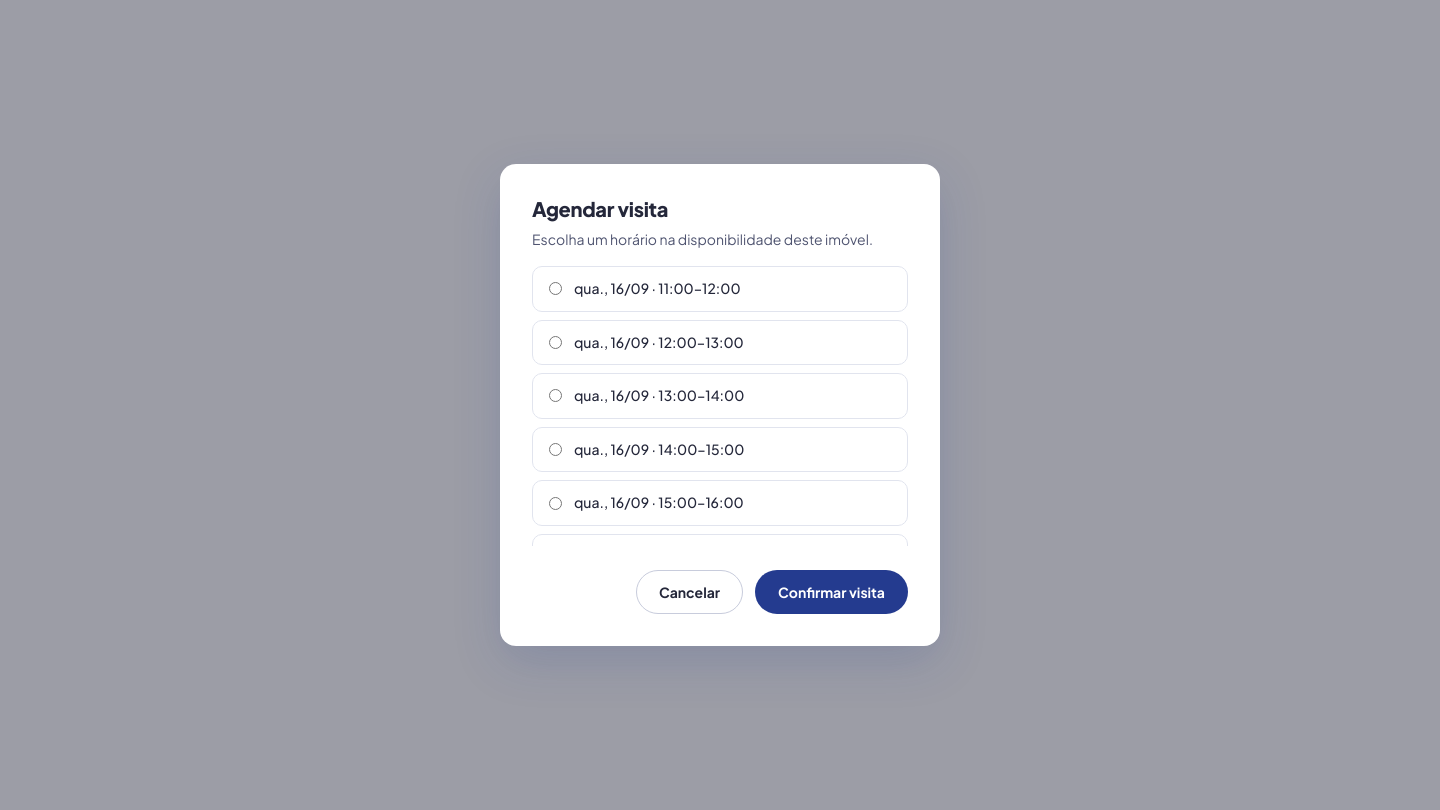
it: VisitScheduler › books an available slot for an authenticated renter
Expected: the dialog "Agendar visita" is shown, [500,164,940,646]
Click the radio button labelled "qua., 16/09 · 11:00–12:00". click: (556, 289)
box: [549,282,562,295]
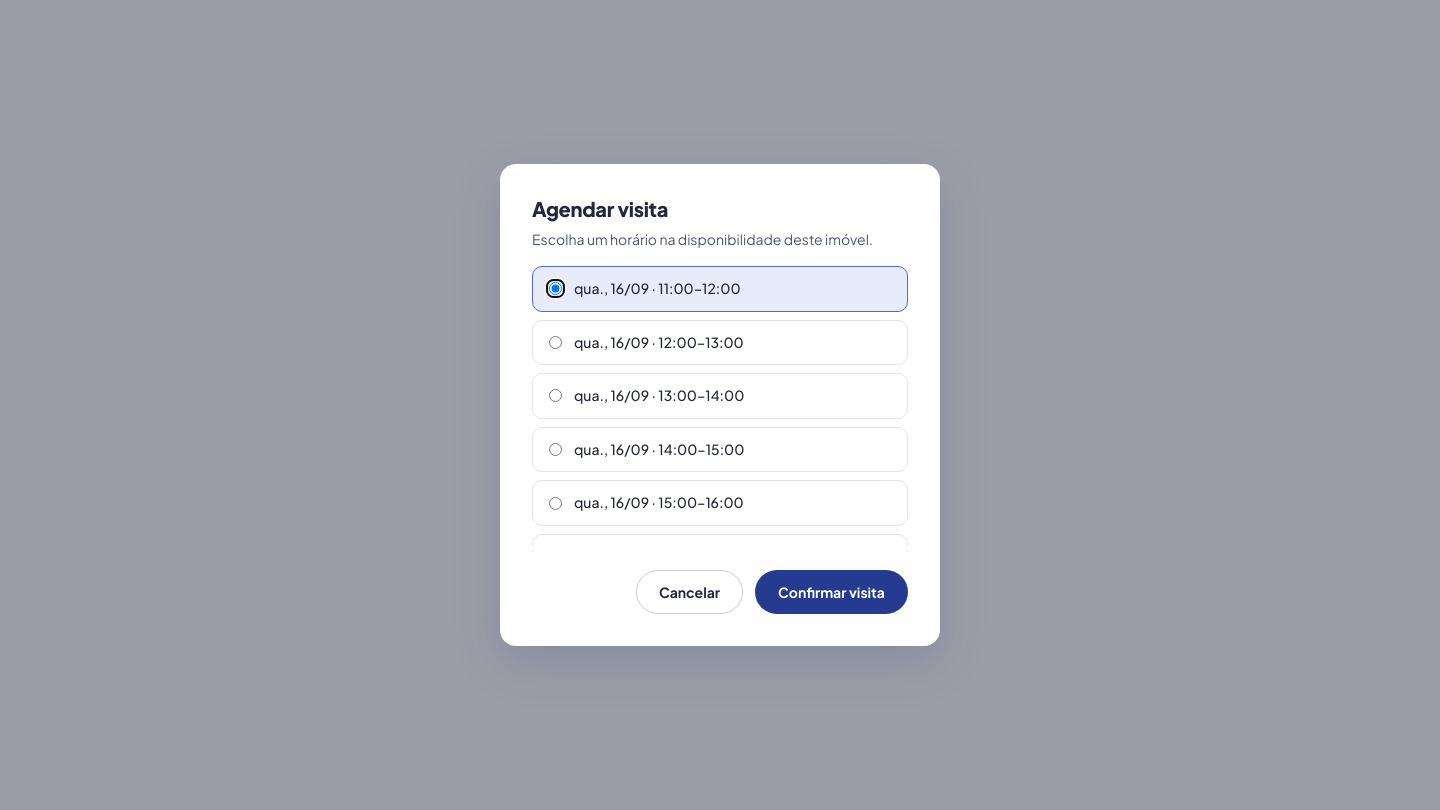
Click the button "Confirmar visita". click: (832, 592)
box: [755,570,908,614]
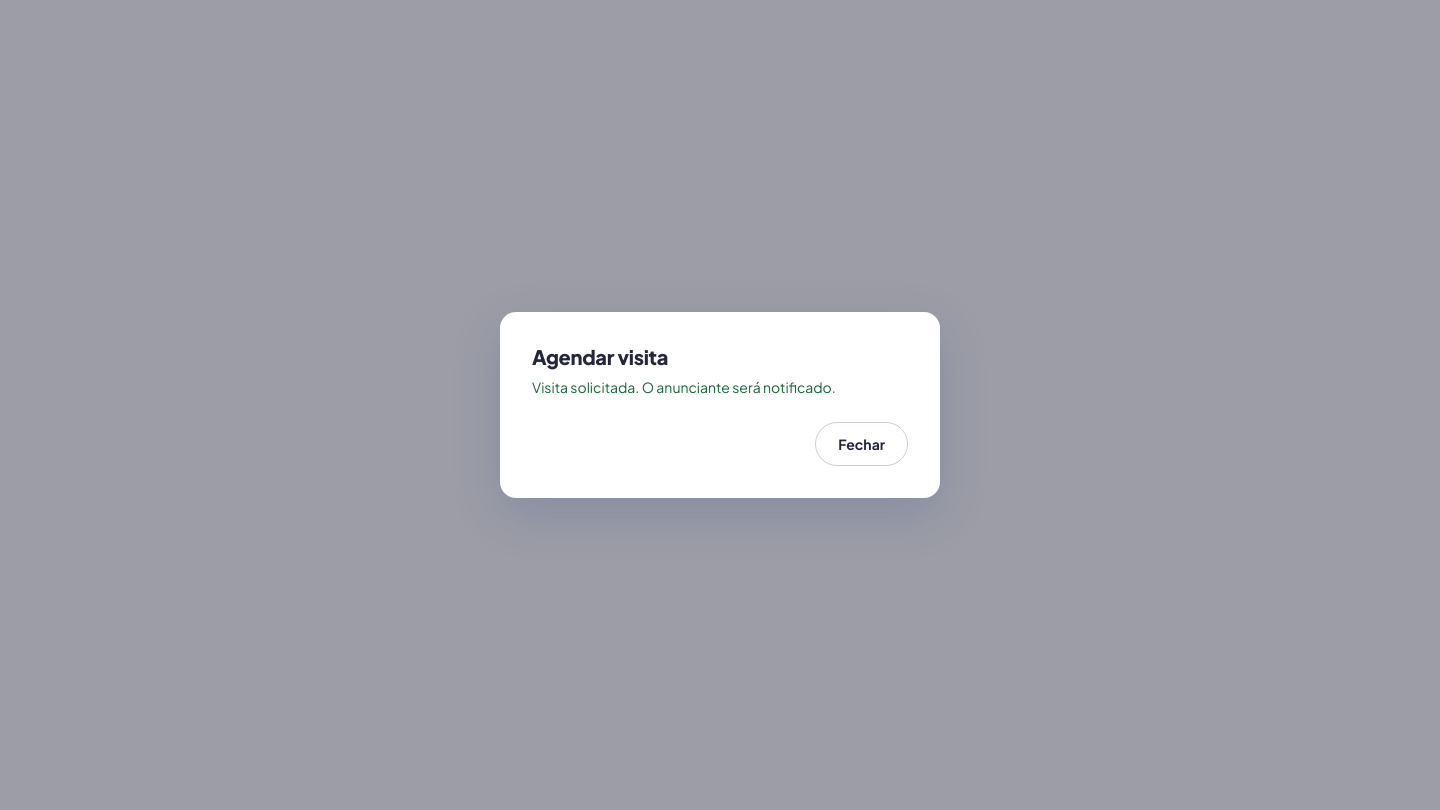
Expected: the message shows "Visita solicitada", [532,378,836,396]
